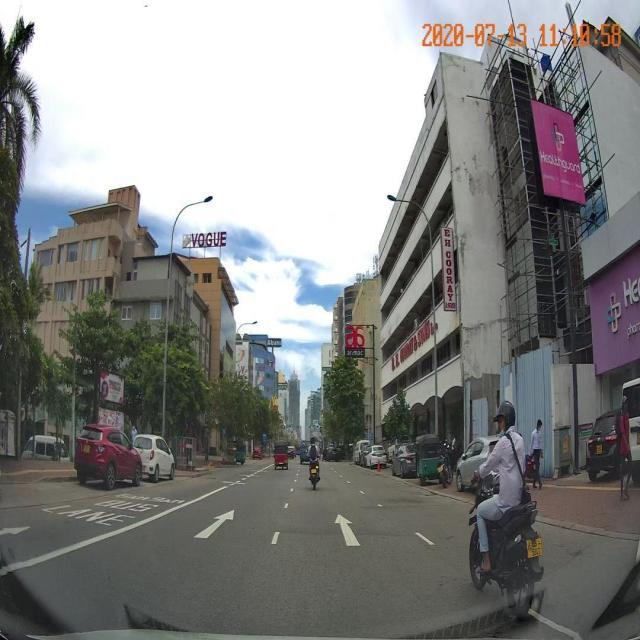BUS LANE: (37, 497, 162, 529)
Liniya 1: (0, 486, 228, 580), (413, 531, 435, 546), (270, 531, 280, 546), (283, 502, 289, 509), (358, 489, 365, 495), (377, 503, 383, 508), (290, 488, 294, 493), (294, 479, 297, 483)
Strelka vpered: (192, 509, 235, 539), (334, 513, 362, 547)
